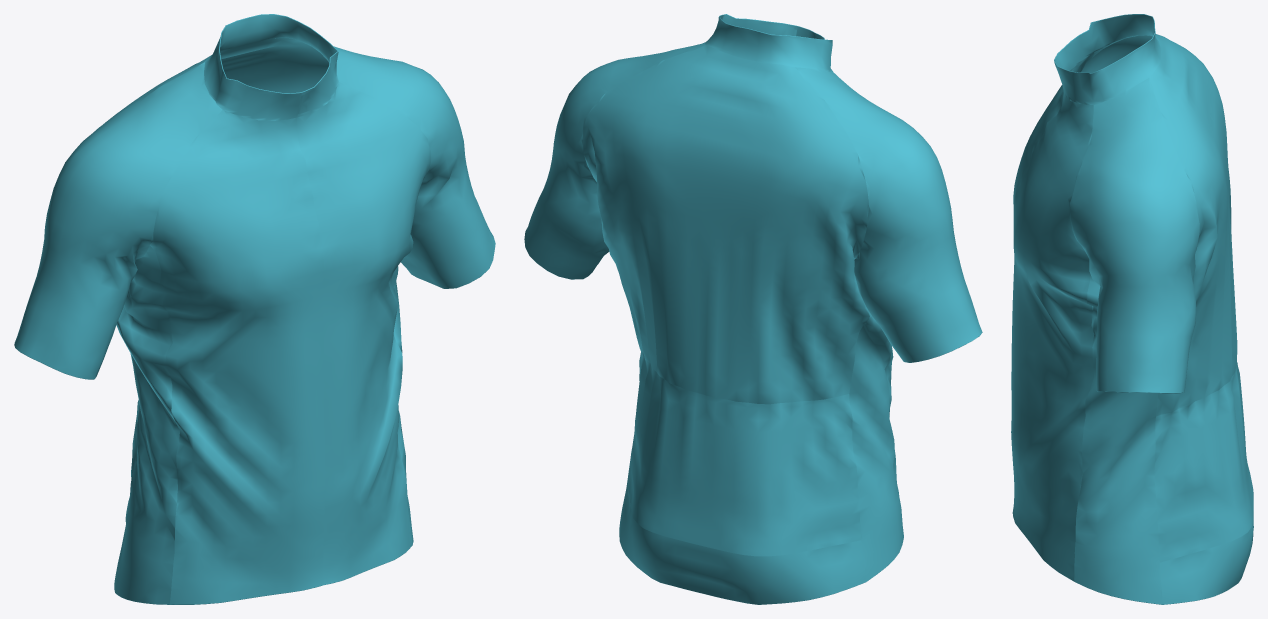
File: blue.dae
The picture shows the model from 3 angles, left to right: view 1: azimuth 30°, elevation 25°; view 2: azimuth 150°, elevation 25°; view 3: azimuth 270°, elevation 25°; orthographic projection. The views are drawn at different scales.
Parts seen in each view (by area): view 1: Collar4_3, Collar3_4, Collar8_2, Collar10_6, Collar9_1, Collar5_11, Collar12_9, Collar12_20, Collar11_7; view 2: Collar5_0, Collar7_5, Collar8_2, Collar6_8, Collar9_1, Collar10_6, Collar12_9, Collar12_20; view 3: Collar3_4, Collar9_1, Collar11_7, Collar5_0, Collar7_5, Collar6_8, Collar12_9, Collar12_20, Collar4_3, Collar8_13.
Boxes of the visible parts, box(x1,y1,x2,y2) form: Collar4_3: box(150, 110, 324, 604); Collar3_4: box(296, 82, 430, 584); Collar8_2: box(14, 62, 222, 379); Collar10_6: box(115, 245, 179, 604); Collar9_1: box(334, 46, 495, 288); Collar5_11: box(220, 37, 329, 93); Collar12_9: box(204, 37, 338, 120); Collar12_20: box(220, 14, 337, 62); Collar11_7: box(393, 266, 413, 544); Collar5_0: box(581, 45, 869, 404); Collar7_5: box(627, 351, 861, 556); Collar8_2: box(795, 67, 982, 362); Collar6_8: box(619, 483, 865, 604); Collar9_1: box(524, 42, 705, 279); Collar10_6: box(849, 309, 903, 581); Collar12_9: box(705, 17, 832, 72); Collar12_20: box(720, 14, 823, 39); Collar3_4: box(1011, 88, 1094, 581); Collar9_1: box(1070, 78, 1199, 392); Collar11_7: box(1074, 274, 1162, 604); Collar5_0: box(1149, 35, 1237, 416); Collar7_5: box(1154, 362, 1253, 562); Collar6_8: box(1160, 492, 1253, 604); Collar12_9: box(1054, 33, 1161, 104); Collar12_20: box(1055, 14, 1154, 71); Collar4_3: box(1011, 85, 1063, 509); Collar8_13: box(1080, 35, 1152, 73).
Size of the model in its own units: 63.01 by 29.53 by 71.44.
